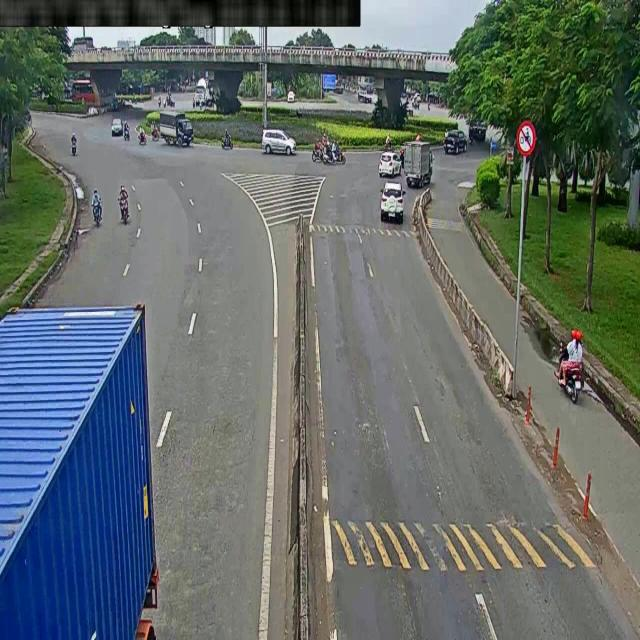bus: (73, 82, 113, 103)
car: (376, 178, 408, 229), (260, 124, 290, 154), (377, 148, 402, 181), (444, 130, 470, 154), (110, 113, 127, 139)
motorbike: (543, 333, 595, 406), (110, 184, 138, 229), (318, 143, 348, 167), (89, 183, 104, 225), (314, 134, 338, 160), (212, 130, 237, 152), (67, 132, 78, 157), (121, 124, 134, 141), (136, 124, 144, 144)
truck: (1, 307, 175, 640), (403, 140, 440, 186), (155, 112, 191, 146), (186, 76, 212, 113)
